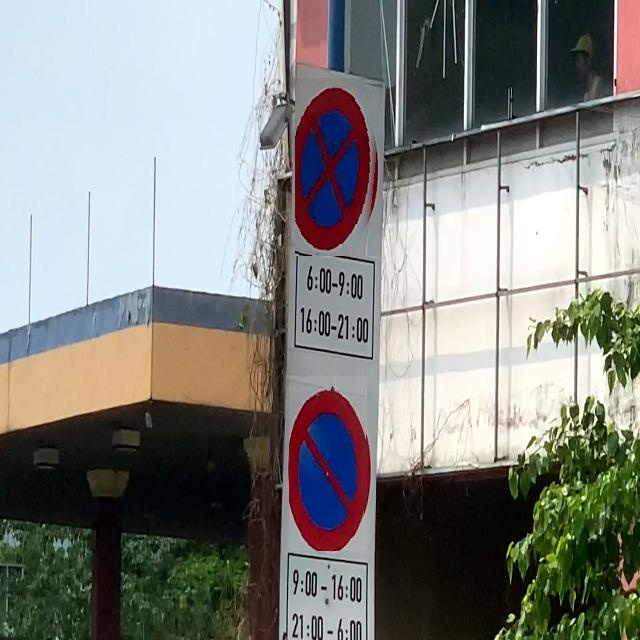bien_cam: (295, 78, 383, 256), (289, 376, 367, 551)
